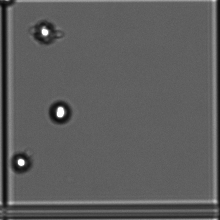Living Cell: (9, 145, 40, 182), (48, 95, 78, 126), (30, 17, 60, 46)
